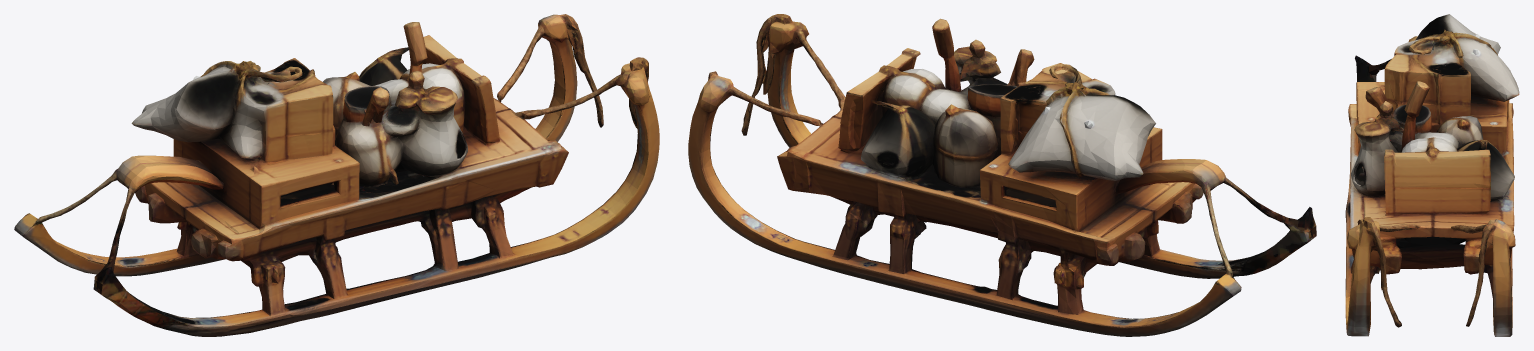
Rendered from trineo.glb.
3 renders of one model, left to right at view 1: azimuth 30°, elevation 25°; view 2: azimuth 150°, elevation 25°; view 3: azimuth 270°, elevation 25°, orthographic. The views are drawn at different scales.
Visible parts, largest first — view 1: world; view 2: world; view 3: world.
Boxes of the visible parts, left/top/right/bottom form: world: left=14, top=14, right=659, bottom=336; world: left=688, top=14, right=1316, bottom=336; world: left=1345, top=14, right=1519, bottom=336.
Bounding box in the file's own units: 0.9988 × 0.3952 × 0.3067.
Materials: 1 (1 with a texture image).
